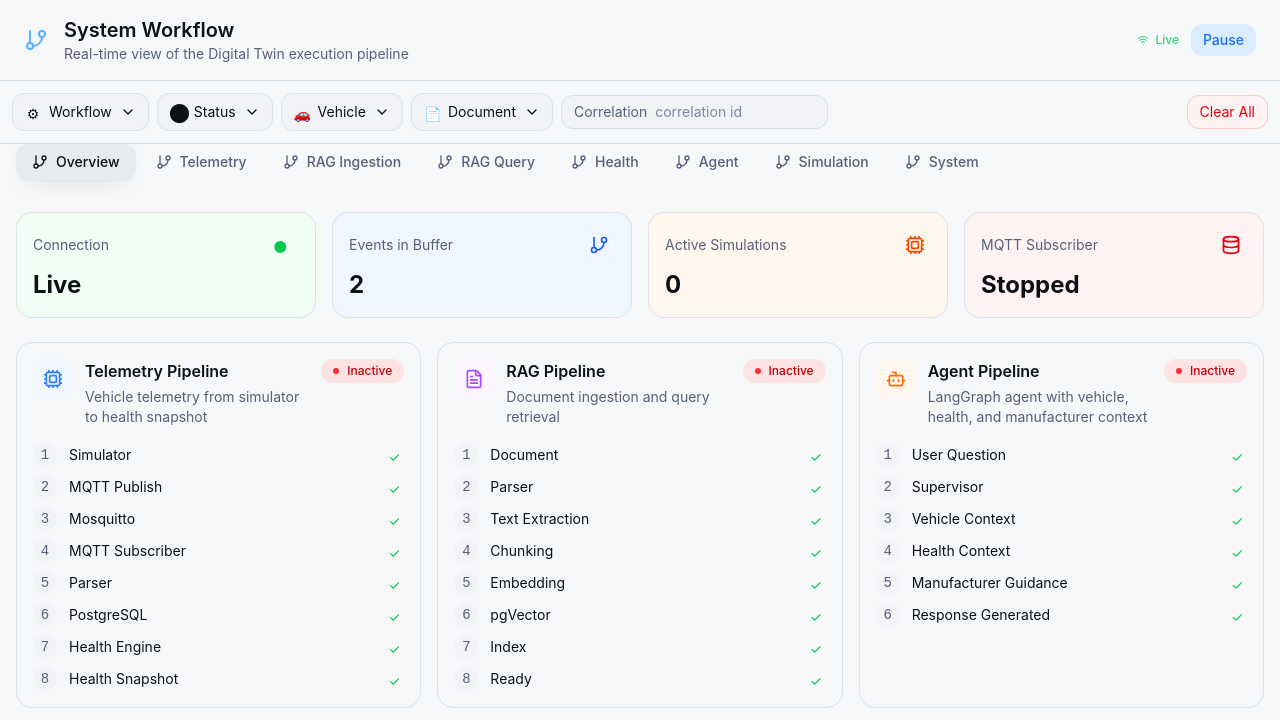
Test case: WorkflowView monitor controls › combines the tab filter with the toolbar filters
Click the tab "RAG Query".
click(486, 162)  # box [421, 144, 551, 180]
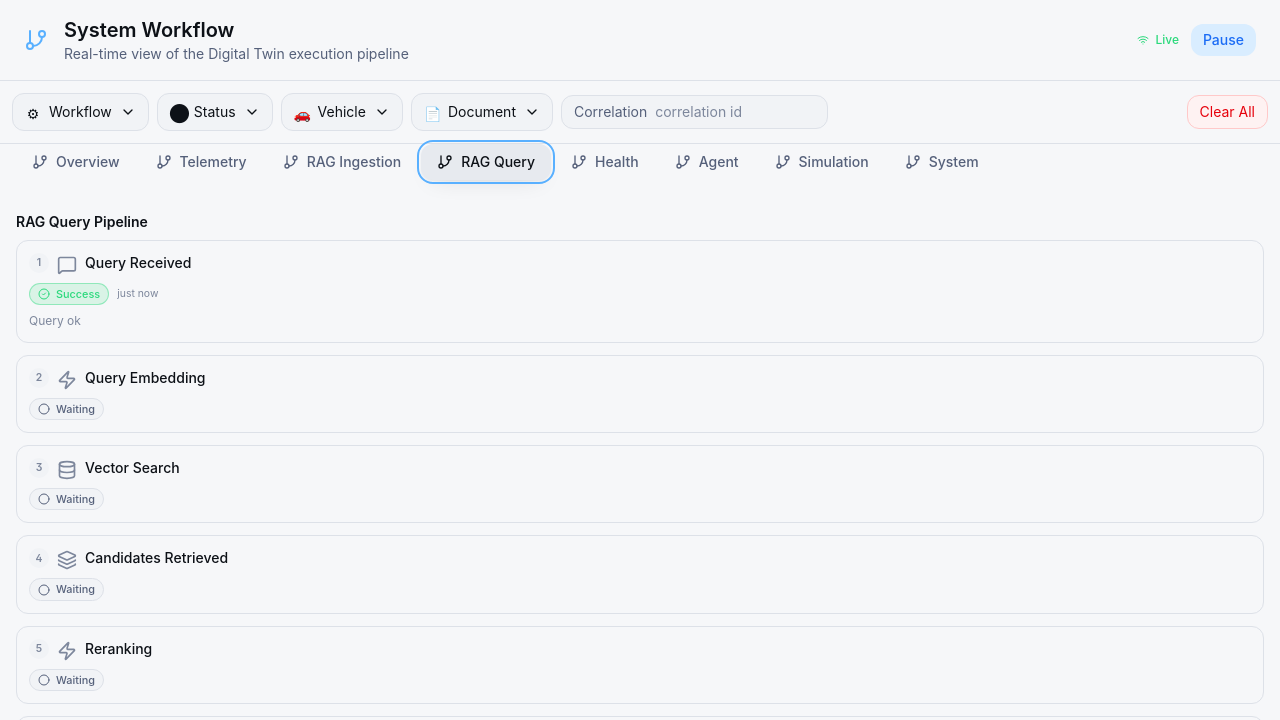
Click the button with aria-label "filter by status".
click(215, 112)  # box [157, 93, 273, 131]
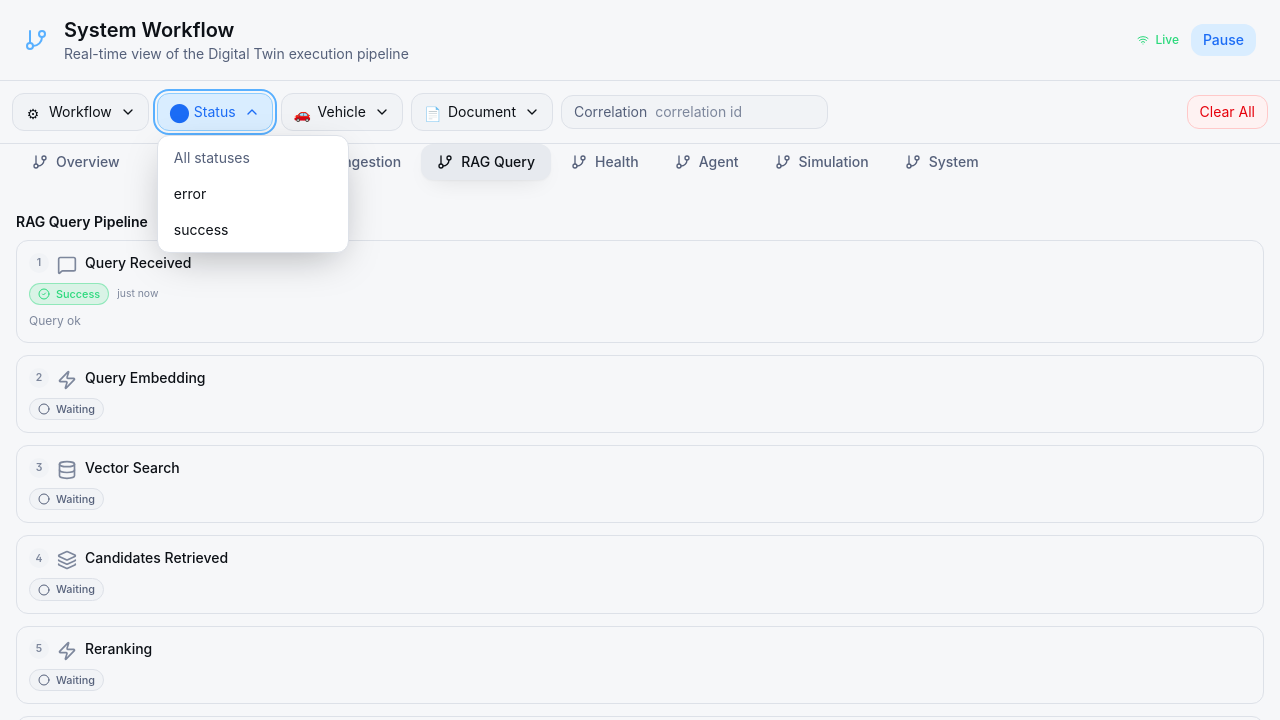
Click the button "error".
click(253, 194)  # box [162, 176, 344, 212]
(page scrolled)
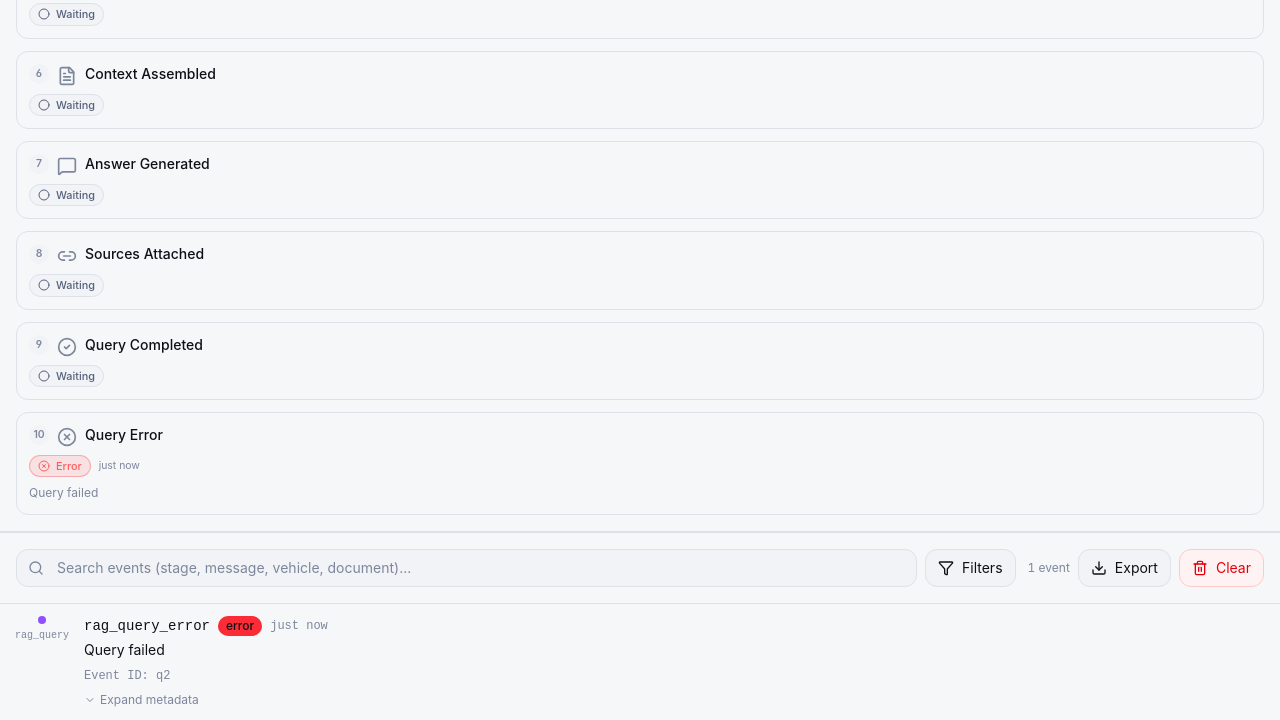
Expected: the text "Query failed" below "rag_query_error" is shown, [84, 641, 165, 658]
Expected: the text "Query ok" is gone
